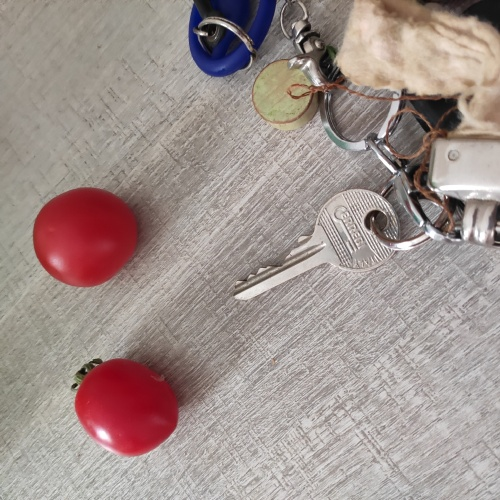pomodoro: (67, 350, 185, 458), (28, 183, 143, 292)
